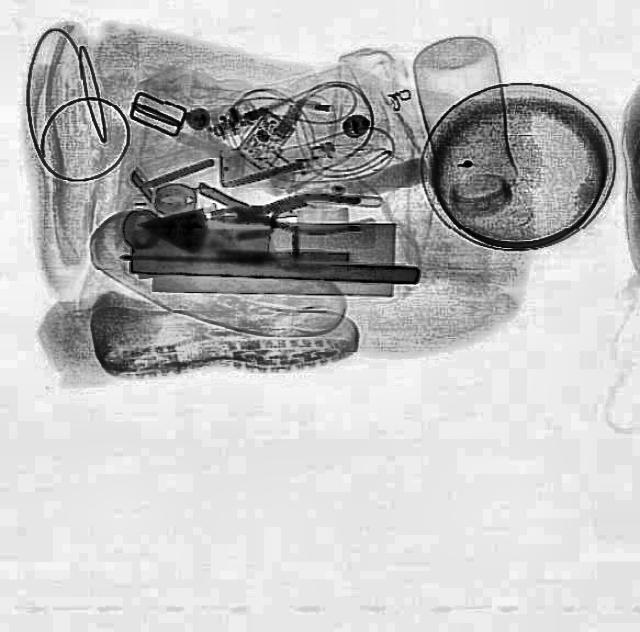Pliers: (211, 191, 359, 237)
